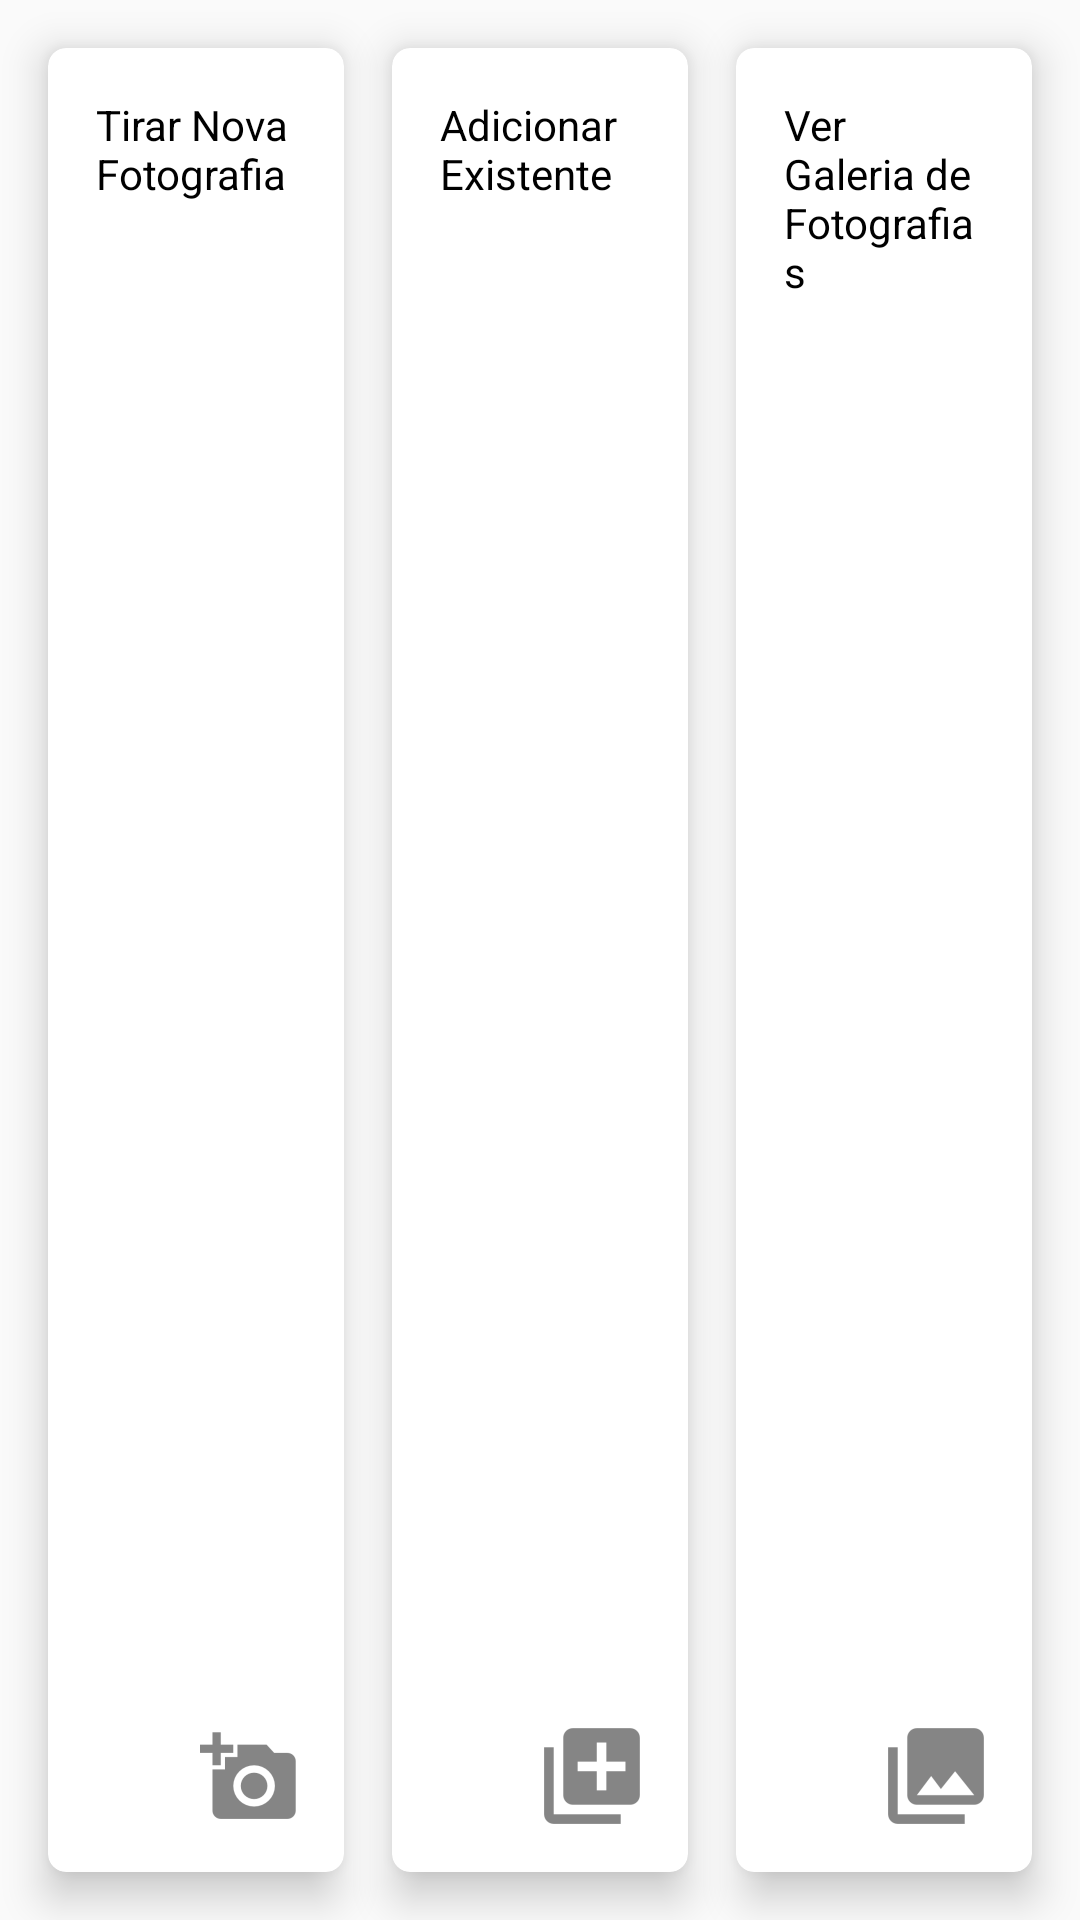

Icon click points for this 1080*1920 phone screenshot, format point (x, y):
add photo: point (592, 1776)
gallery: point (936, 1776)
take photo: point (248, 1775)
